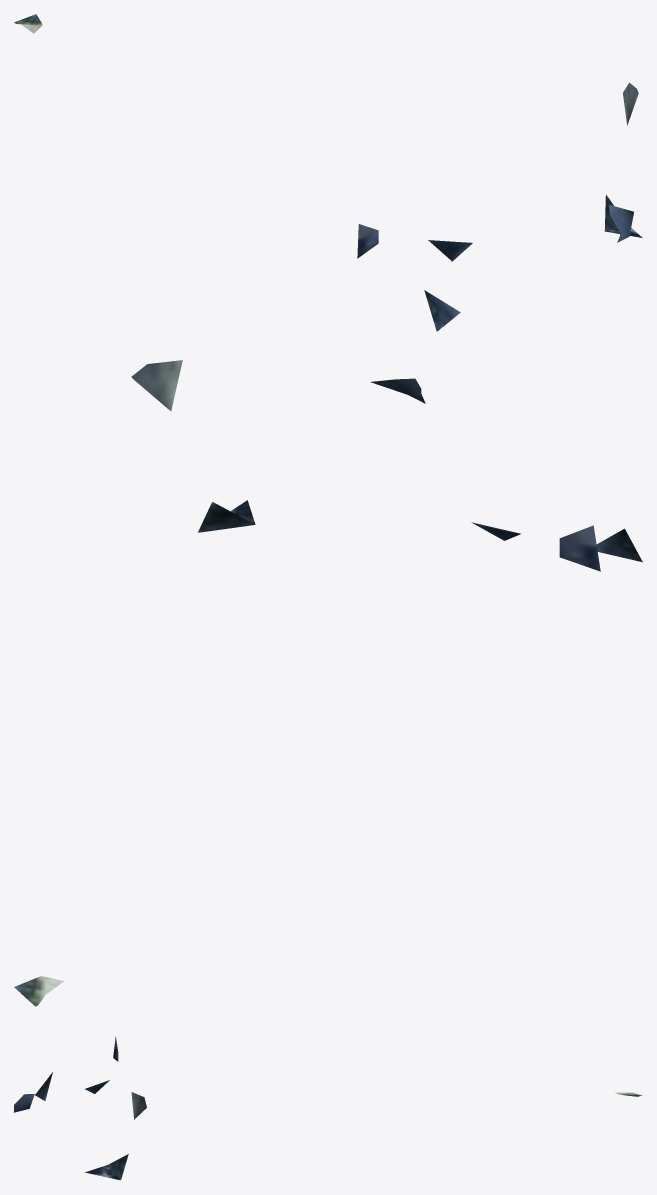
The picture shows the model from 3 angles, top to bottom: view 1: azimuth 30°, elevation 25°; view 2: azimuth 150°, elevation 25°; view 3: azimuth 270°, elevation 25°; orthographic projection. The views are drawn at different scales.
Parts seen in each view (by area): view 1: 30436272704361715522_1; view 2: 30436272704361715522_1; view 3: 30436272704361715522_1.
Boxes of the visible parts, bbox=[...] form: 30436272704361715522_1: bbox=[14, 14, 642, 331]; 30436272704361715522_1: bbox=[14, 360, 642, 1006]; 30436272704361715522_1: bbox=[14, 1036, 642, 1180].
Size of the model in its own units: 14.88 by 6.01 by 37.17.
1 material, 1 textured.
